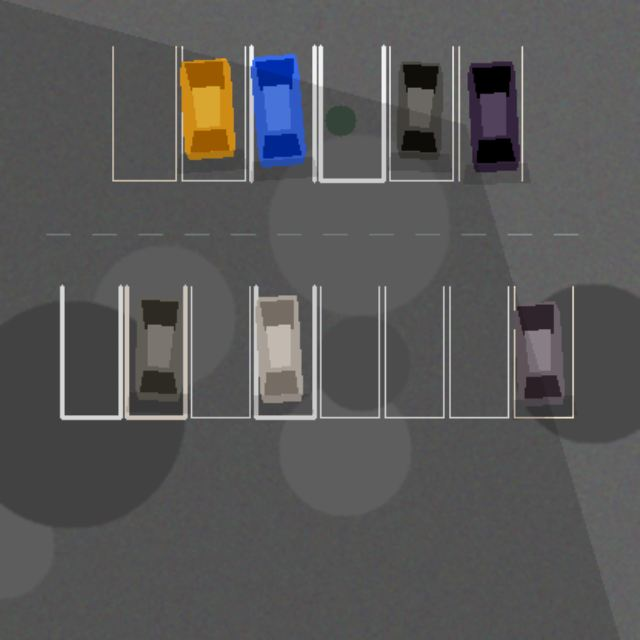space-empty: (112, 46, 175, 180), (320, 46, 383, 180), (449, 286, 508, 417), (62, 286, 120, 417), (191, 286, 249, 417), (320, 286, 378, 417), (385, 286, 443, 417)
space-occupied: (458, 46, 522, 180), (182, 46, 245, 180), (251, 46, 314, 180), (389, 46, 452, 180), (126, 286, 185, 417), (255, 286, 314, 417), (514, 286, 572, 417)
